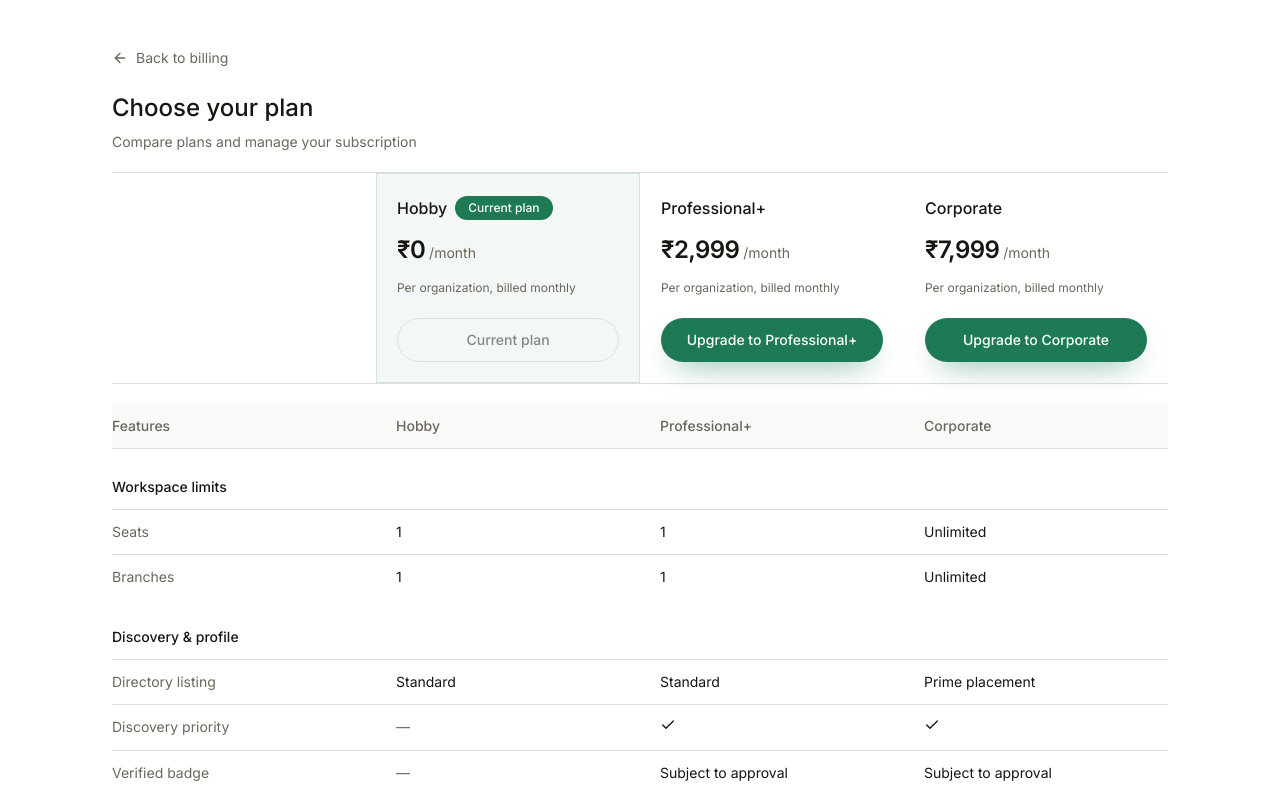
pricing subpage and confirmation dialog › keeps pricing outside the review dialog and restores options/focus after close button
Click the button "Upgrade to Corporate".
click(1036, 340)  # box 925,318 -> 1147,362
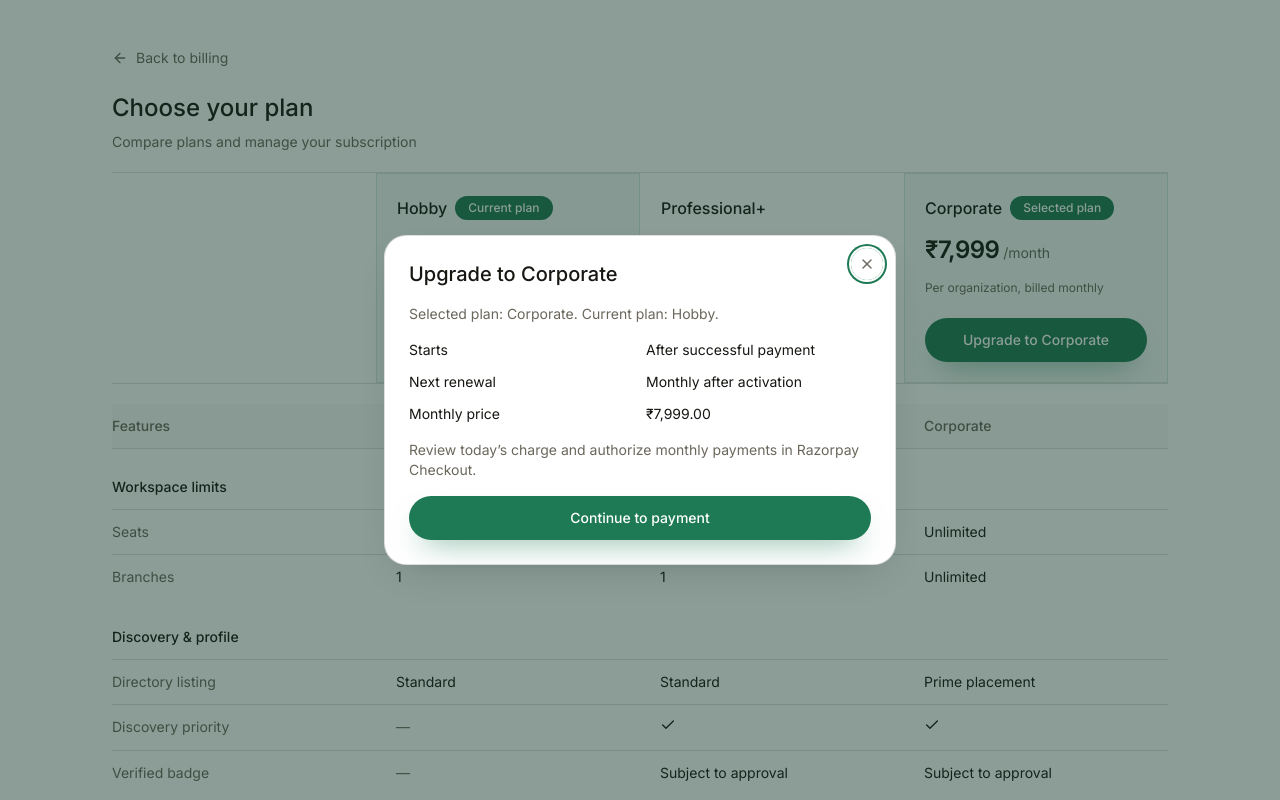
Now the button "Continue to payment" is shown, box 409,496 -> 871,540
Click the button named "Close".
click(867, 264)  # box 851,248 -> 883,280
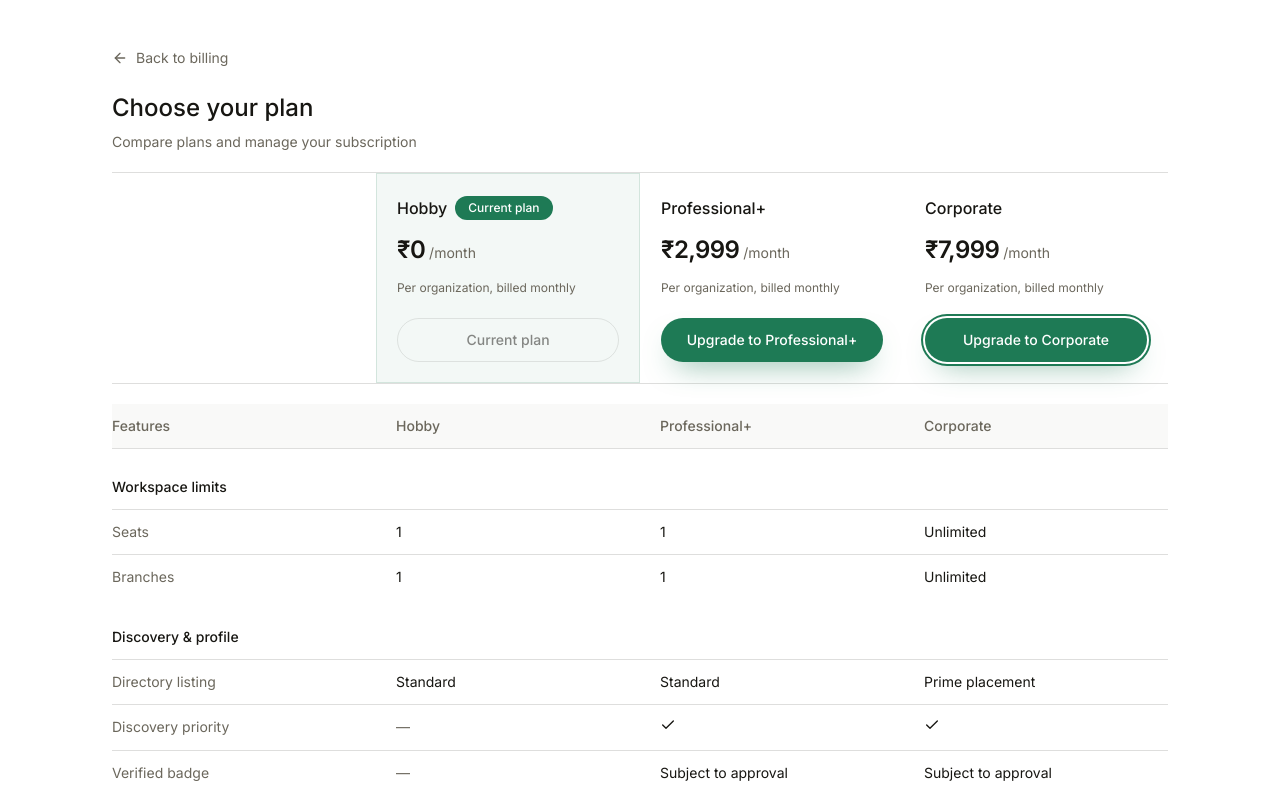
Expected: the button "Upgrade to Corporate" is enabled, 925,318 -> 1147,362
Now the dialog is gone
Now the text "Selected" is gone
